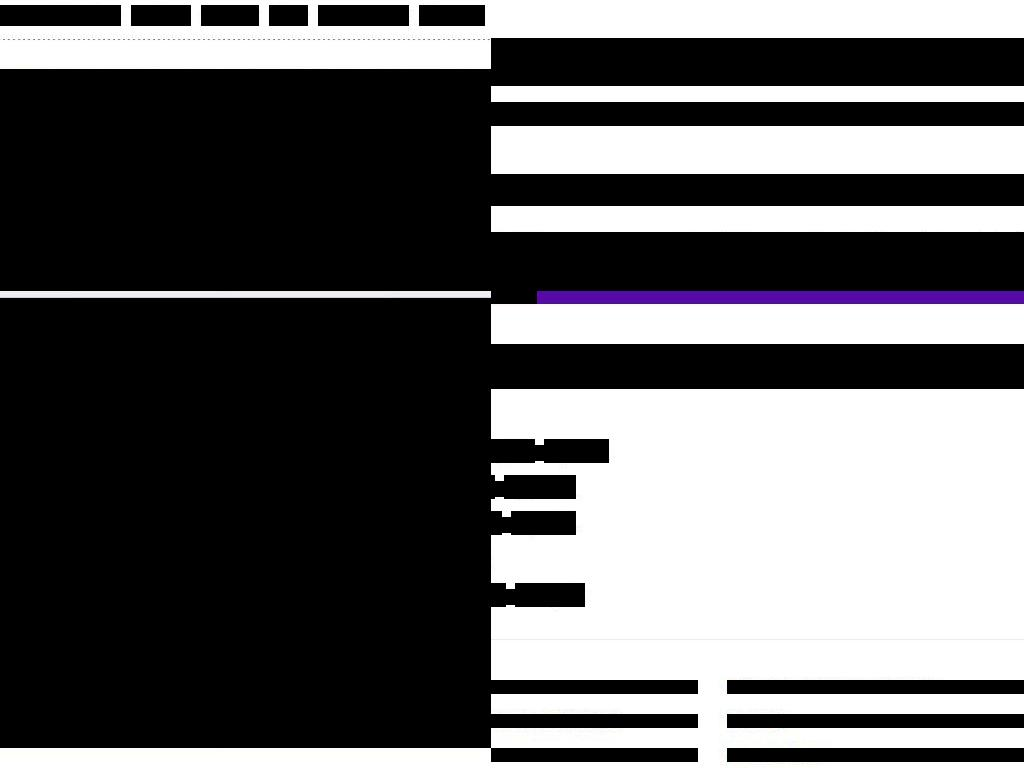button: (727, 680, 1024, 694), (727, 714, 1024, 728), (727, 748, 1024, 762), (491, 680, 698, 694), (491, 714, 698, 728), (491, 748, 698, 762)
heading: (71, 395, 491, 548), (491, 344, 1024, 389), (491, 174, 1024, 206)
image: (0, 298, 491, 748), (0, 69, 491, 291)
link: (0, 5, 121, 26), (318, 5, 409, 26), (504, 475, 576, 499), (515, 583, 585, 607), (544, 439, 609, 463), (511, 511, 576, 535), (419, 5, 485, 26), (131, 5, 191, 26), (201, 5, 259, 26), (491, 439, 535, 463), (269, 5, 308, 26), (491, 583, 506, 607)
text: (71, 562, 491, 641), (491, 38, 1024, 86), (491, 232, 1024, 275), (491, 255, 1024, 291), (491, 102, 1024, 126), (491, 280, 663, 291), (535, 445, 544, 461), (495, 481, 504, 497), (502, 517, 511, 533), (506, 589, 515, 605)
